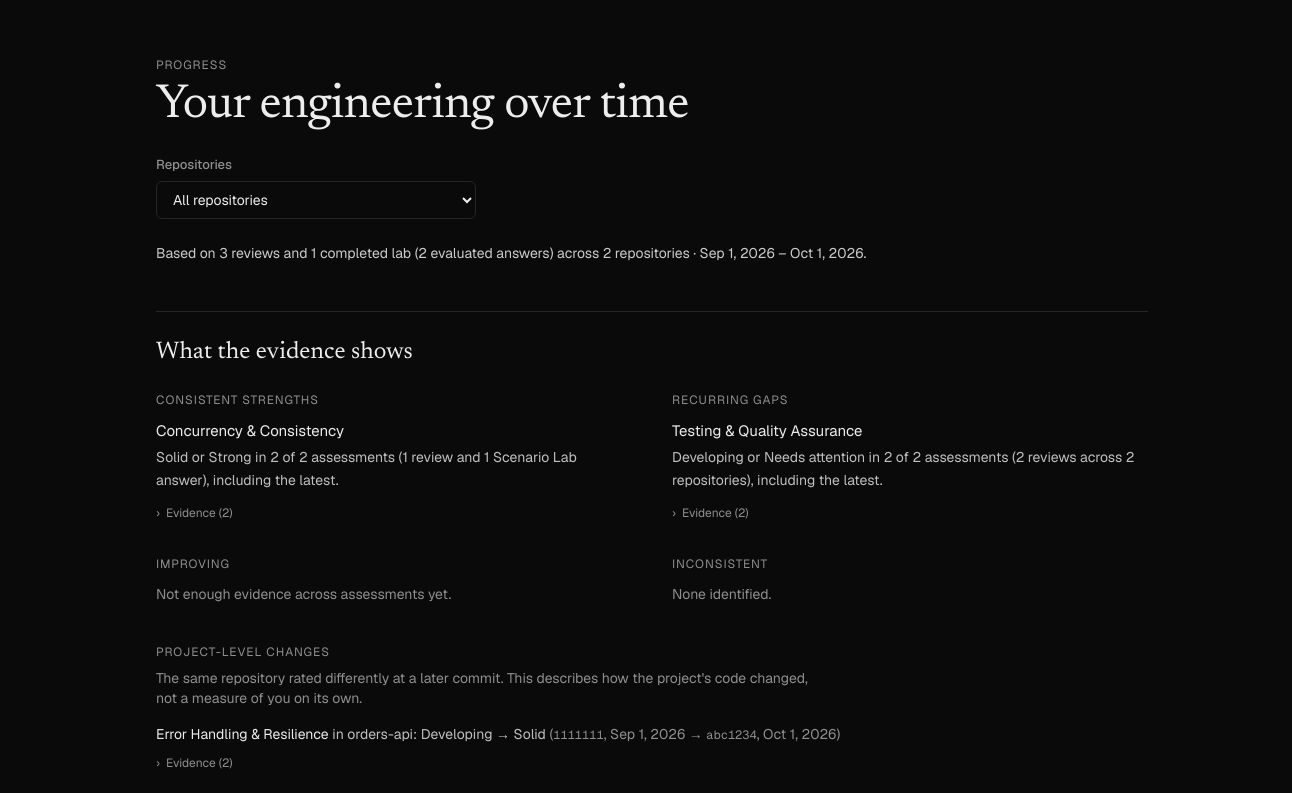
Test: choosing a repository scopes progress to it, in the URL
Select "payments" in the dropdown labelled "Repositories" at (316,200), box left=156, top=181, right=476, bottom=219
(page scrolled)
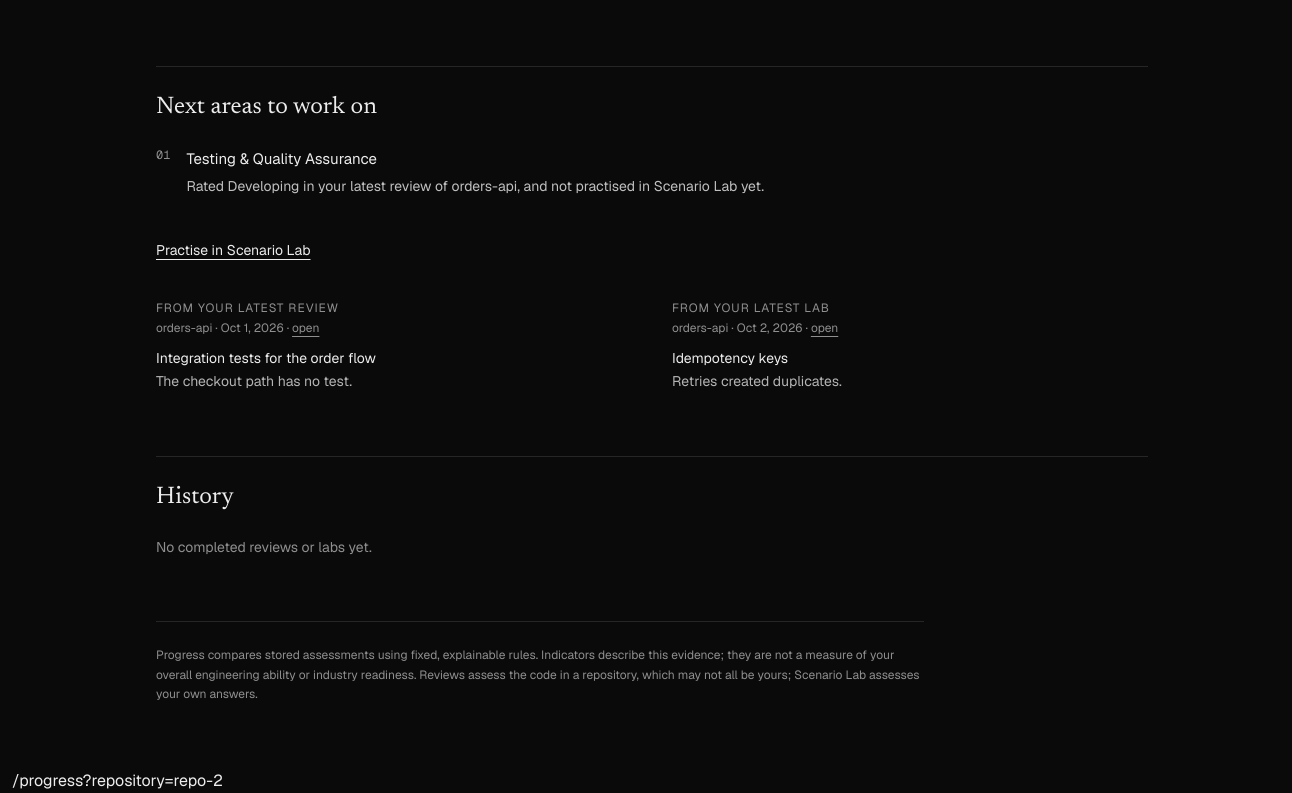
Expected: the text with test id "where" reads "/progress?repository=repo-2", left=12, top=770, right=223, bottom=791
